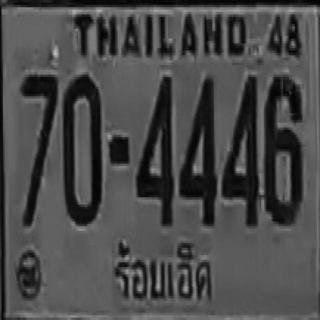N00: (62, 72, 102, 224)
N04: (221, 72, 258, 224), (136, 75, 173, 224), (179, 75, 216, 224)
N06: (264, 73, 301, 223)
N07: (20, 72, 57, 226), (20, 72, 57, 178)
P54: (105, 236, 218, 312)
